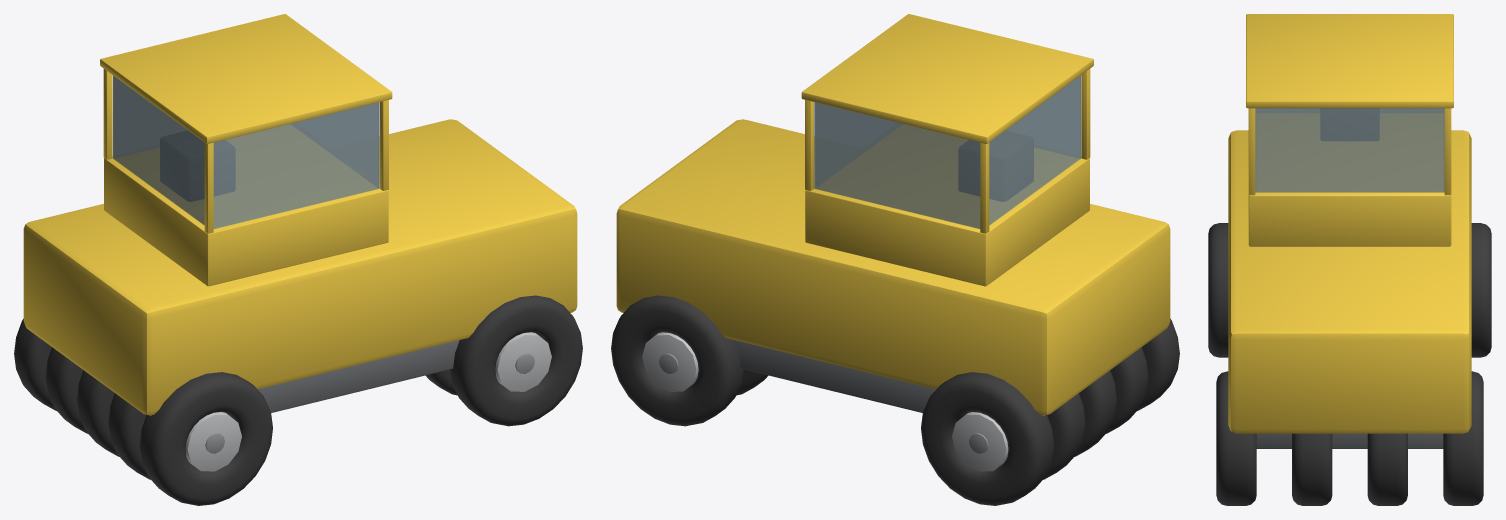
File: EQP-CMP-003_anim.glb
The picture shows the model from 3 angles, left to right: view 1: azimuth 30°, elevation 25°; view 2: azimuth 150°, elevation 25°; view 3: azimuth 270°, elevation 25°; orthographic projection. The views are drawn at different scales.
Parts seen in each view (by area): view 1: EQP-CMP-003_anim9, EQP-CMP-003_anim4, EQP-CMP-003_anim0, EQP-CMP-003_anim8, EQP-CMP-003_anim5, EQP-CMP-003_anim6, EQP-CMP-003_anim7; view 2: EQP-CMP-003_anim9, EQP-CMP-003_anim8, EQP-CMP-003_anim3, EQP-CMP-003_anim4, EQP-CMP-003_anim7, EQP-CMP-003_anim6, EQP-CMP-003_anim5; view 3: EQP-CMP-003_anim9, EQP-CMP-003_anim0, EQP-CMP-003_anim3, EQP-CMP-003_anim1, EQP-CMP-003_anim2, EQP-CMP-003_anim4, EQP-CMP-003_anim8.
Part boxes in pixels (box(x1,y1,x2,y2)): EQP-CMP-003_anim9: box(23, 14, 577, 415); EQP-CMP-003_anim4: box(139, 372, 272, 505); EQP-CMP-003_anim0: box(450, 295, 582, 426); EQP-CMP-003_anim8: box(14, 318, 56, 410); EQP-CMP-003_anim5: box(108, 393, 150, 479); EQP-CMP-003_anim6: box(77, 370, 119, 456); EQP-CMP-003_anim7: box(45, 347, 87, 433); EQP-CMP-003_anim9: box(616, 14, 1170, 415); EQP-CMP-003_anim8: box(921, 372, 1054, 505); EQP-CMP-003_anim3: box(611, 295, 743, 426); EQP-CMP-003_anim4: box(1137, 318, 1179, 410); EQP-CMP-003_anim7: box(1043, 393, 1085, 479); EQP-CMP-003_anim6: box(1074, 370, 1116, 456); EQP-CMP-003_anim5: box(1106, 347, 1148, 433); EQP-CMP-003_anim9: box(1228, 14, 1471, 448); EQP-CMP-003_anim0: box(1216, 371, 1256, 505); EQP-CMP-003_anim3: box(1443, 371, 1483, 505); EQP-CMP-003_anim1: box(1292, 433, 1332, 505); EQP-CMP-003_anim2: box(1367, 433, 1407, 505); EQP-CMP-003_anim4: box(1208, 223, 1228, 357); EQP-CMP-003_anim8: box(1471, 223, 1491, 357).
Bounding box in the file's own units: 3.6 × 2.8 × 2.1.
